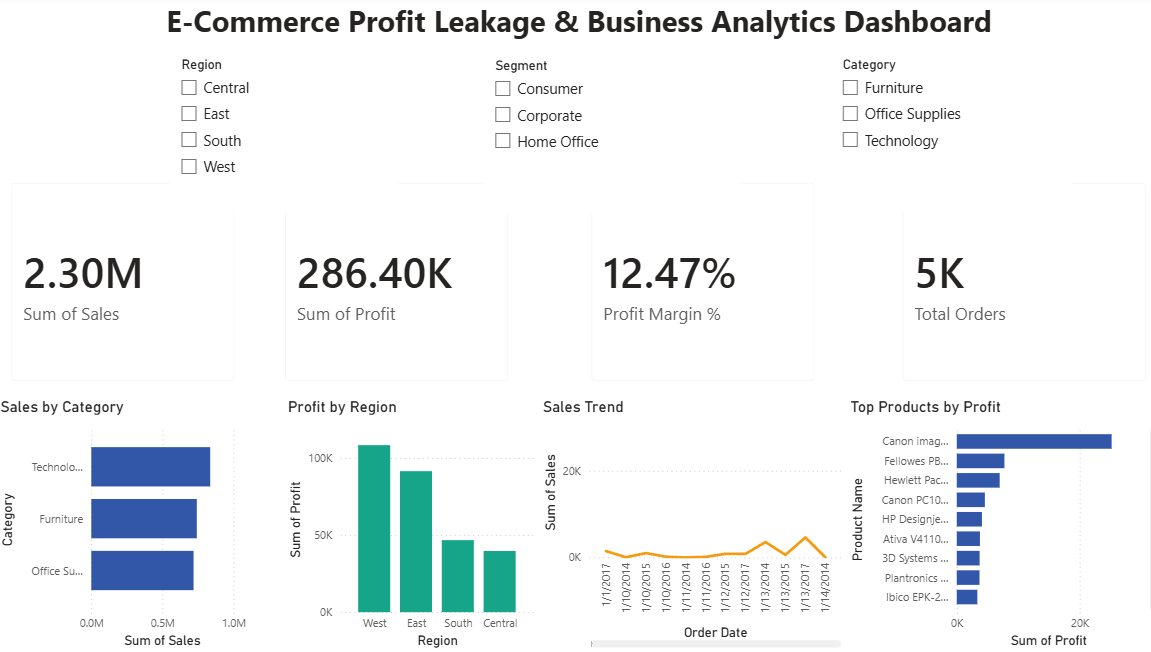

This screenshot's page, from the dashboard's own definition file:
{"tool":"powerbi","page":{"name":"Page 1","canvas":[1280,720],"ordinal":0},"visuals":[{"type":"cardVisual","fields":{"Data":["Sum(Sample - Superstore.Sales)"]},"box":[0,188,279.9,252.5],"z":0},{"type":"cardVisual","fields":{"Data":["Sum(Sample - Superstore.Profit)"]},"box":[300.5,188,279.9,252.5],"z":1},{"type":"cardVisual","fields":{"Data":["Sample - Superstore.Profit Margin %"]},"box":[636.7,188,279.9,252.5],"z":2},{"type":"cardVisual","fields":{"Data":["Sample - Superstore.Total Orders"]},"box":[978.4,188,301.9,252.5],"z":3},{"type":"clusteredBarChart","title":" Sales by Category","fields":{"Category":["Sample - Superstore.Category"],"Y":["Sum(Sample - Superstore.Sales)"]},"box":[0,440.5,279.9,279.9],"z":4},{"type":"clusteredColumnChart","title":"Profit by Region","fields":{"Y":["Sum(Sample - Superstore.Profit)"],"Category":["Sample - Superstore.Region"]},"box":[315.6,440.5,279.9,279.9],"z":5},{"type":"lineChart","title":"Sales Trend","fields":{"Y":["Sum(Sample - Superstore.Sales)"],"Category":["Sample - Superstore.Order Date"]},"box":[595.5,440.5,337.6,279.9],"z":6},{"type":"clusteredBarChart","title":"Top Products by Profit","fields":{"Y":["Sum(Sample - Superstore.Profit)"],"Category":["Sample - Superstore.Product Name"]},"box":[933.1,440.5,279.9,279.9],"z":7},{"type":"slicer","fields":{"Values":["Sample - Superstore.Region"]},"box":[190.7,61.7,249.7,177],"z":8},{"type":"slicer","fields":{"Values":["Sample - Superstore.Segment"]},"box":[535.2,63.1,279.9,175.6],"z":9},{"type":"slicer","fields":{"Values":["Sample - Superstore.Category"]},"box":[916.6,61.7,263.5,175.6],"z":10},{"type":"textbox","box":[0,0,1280.3,63.1],"z":11}]}

Visuals, with their boxes in screenshot pixels (x1, y1, x2, y2), scaled from the page's 1280x720 canvas onto the 1151x652 screenshot:
cardVisual - Sum(Sample - Superstore.Sales): detection(0, 170, 252, 399)
cardVisual - Sum(Sample - Superstore.Profit): detection(270, 170, 522, 399)
cardVisual - Sample - Superstore.Profit Margin %: detection(573, 170, 824, 399)
cardVisual - Sample - Superstore.Total Orders: detection(880, 170, 1150, 399)
" Sales by Category" clusteredBarChart: detection(0, 399, 252, 651)
"Profit by Region" clusteredColumnChart: detection(284, 399, 535, 651)
"Sales Trend" lineChart: detection(535, 399, 839, 651)
"Top Products by Profit" clusteredBarChart: detection(839, 399, 1091, 651)
slicer - Sample - Superstore.Region: detection(171, 56, 396, 216)
slicer - Sample - Superstore.Segment: detection(481, 57, 733, 216)
slicer - Sample - Superstore.Category: detection(824, 56, 1061, 215)
textbox: detection(0, 0, 1150, 57)
